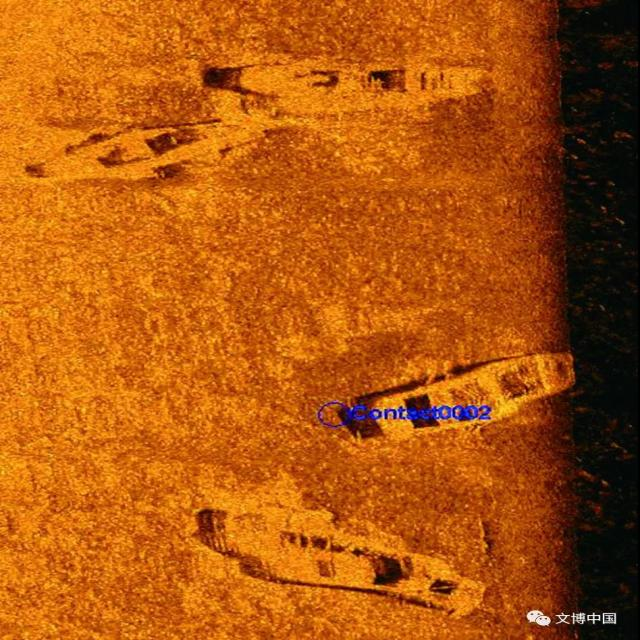ship: (196, 498, 489, 622), (353, 346, 577, 442), (27, 116, 298, 183), (212, 50, 496, 108)
